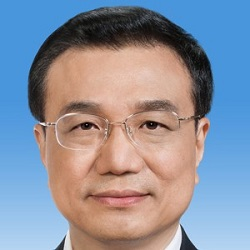unmask: (45, 68, 194, 239)
